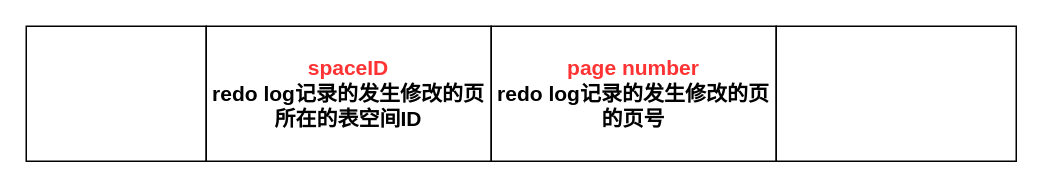
Image size: 1043x188. Some labels were removed from this diagram. Here are the shapes that lost their labels. From the top down, the centre of each, then its label:
At (x=115, y=93): "type redo日志的类型".
At (x=895, y=93): "data redo log的真实内容".
